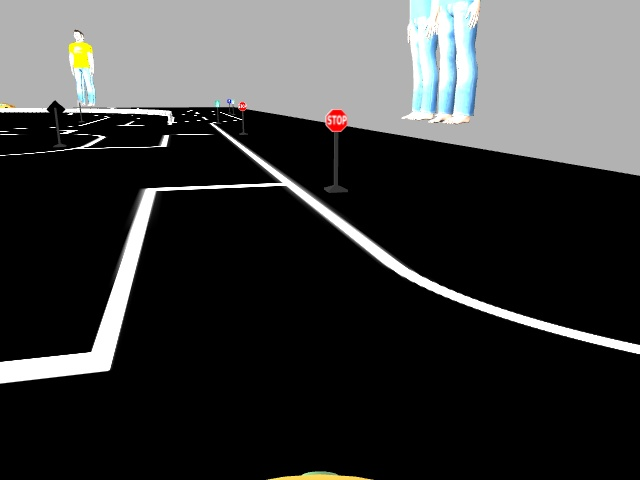Stop: (326, 109, 347, 131), (237, 101, 245, 110)
